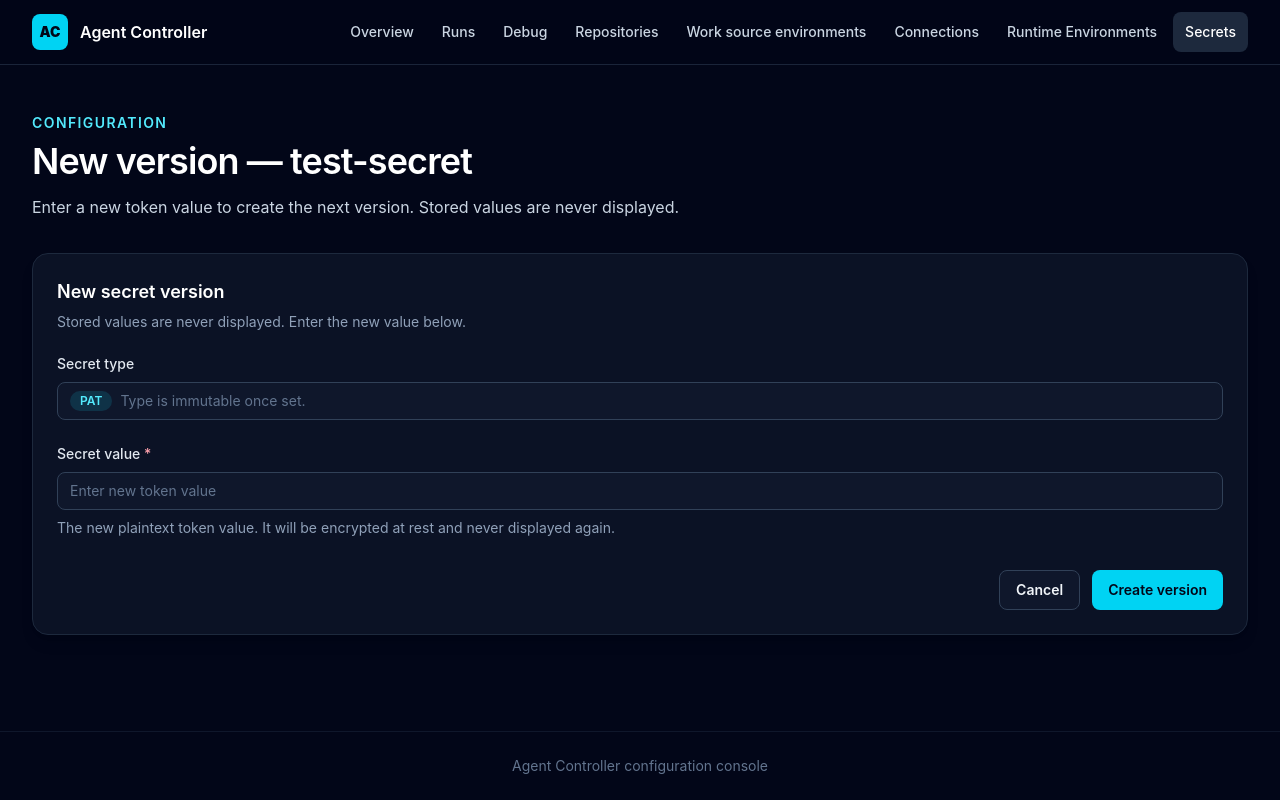
Test case: secret screens › creates a new version and navigates to versions view with success notice
Expected: the heading "New secret version" is shown, [57, 281, 225, 302]
// Enter a new value (use placeholder because SecretForm omits id on Field)
Step 1. Type "new-secret-value-123" into the password field with placeholder "Enter new token value" → (640, 491), box [57, 472, 1223, 510]
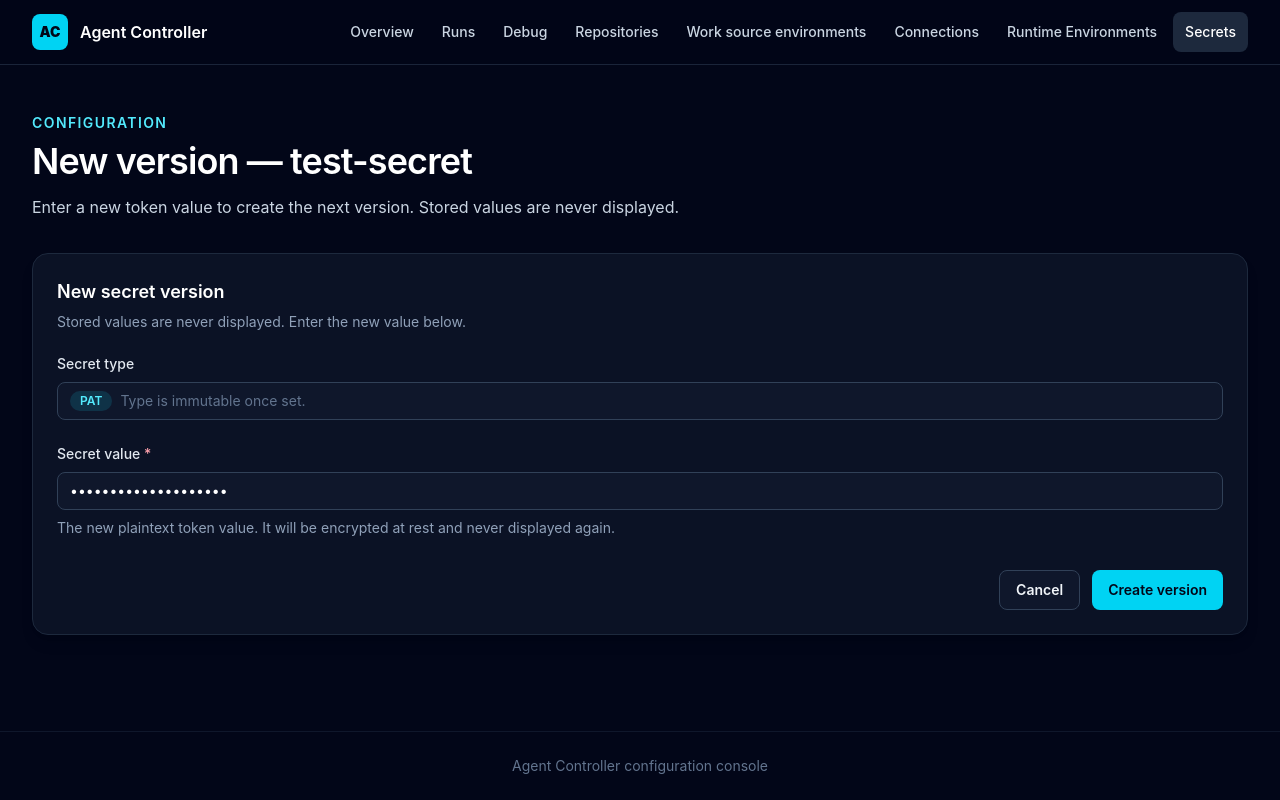
// Submit the form
Step 2. Click the button "Create version" → (1158, 590), box [1092, 570, 1223, 610]
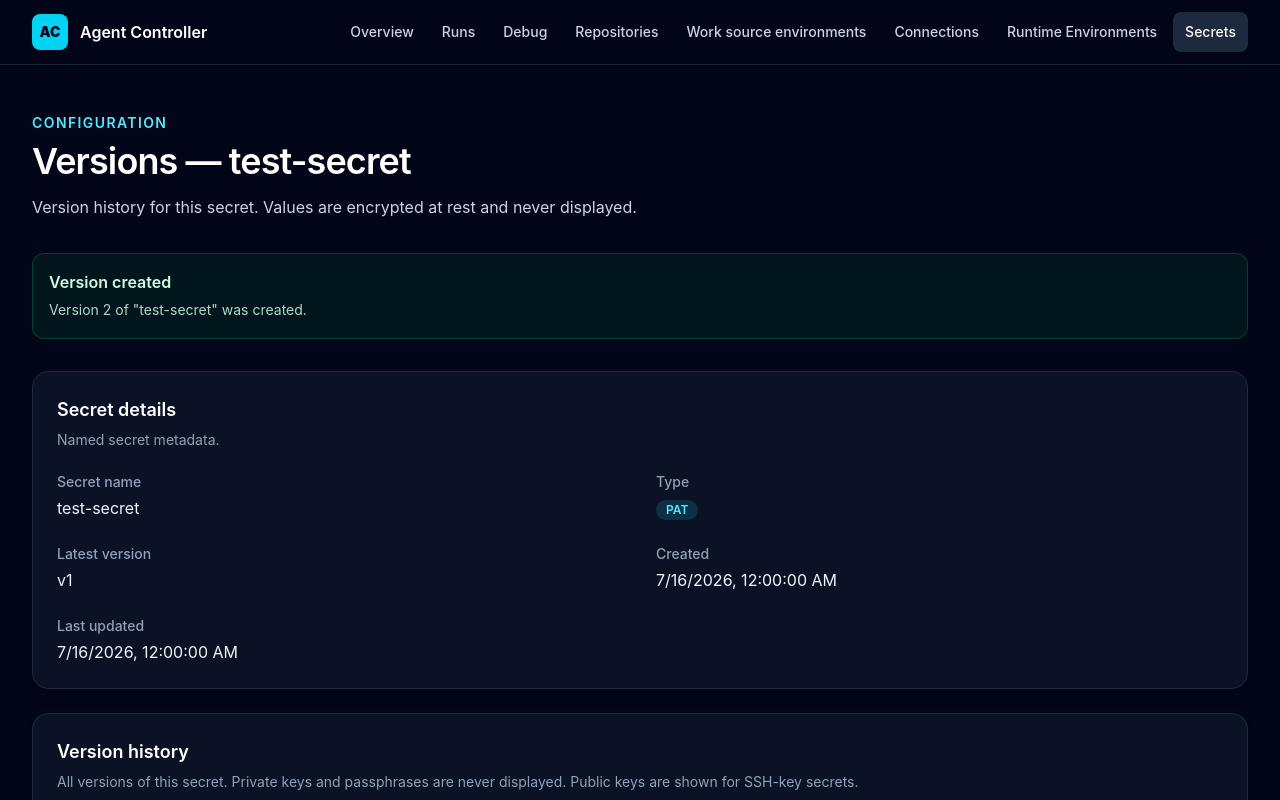
Result: the text "Version created" is shown at [49, 272, 171, 292]
